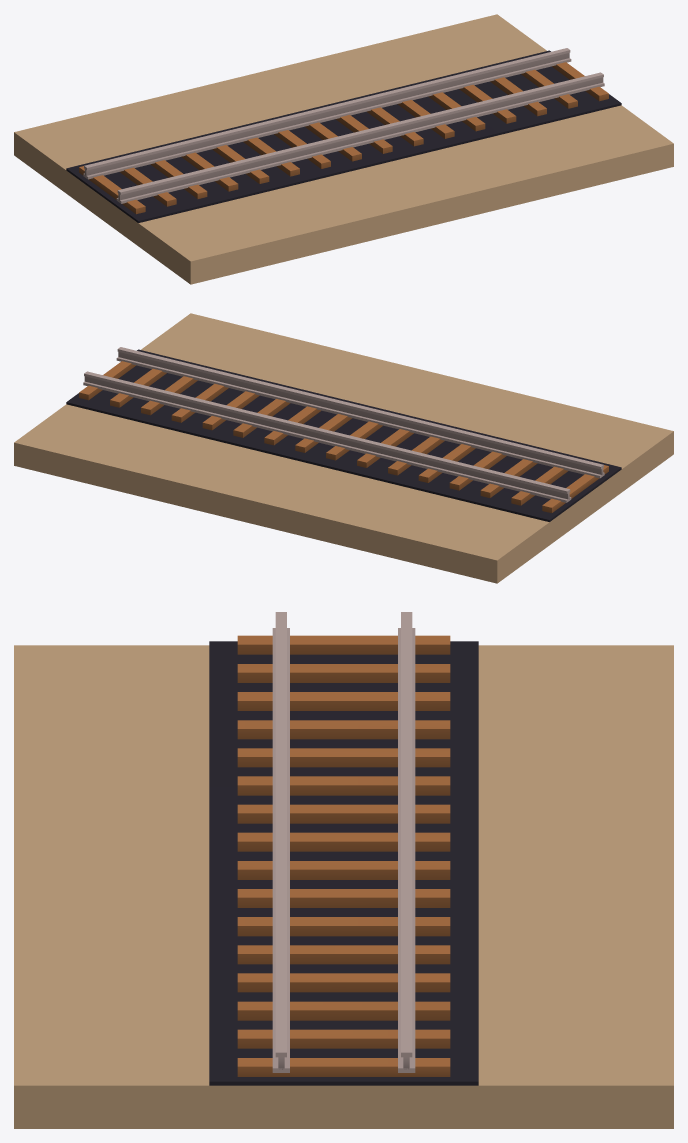
File: kit.metro-track.lod2.glb
3 views of the same model, one above another, from view 1: azimuth 30°, elevation 25°; view 2: azimuth 150°, elevation 25°; view 3: azimuth 270°, elevation 25° (orthographic). The views are drawn at different scales.
Visible parts, largest first — view 1: body; view 2: body; view 3: body.
Boxes of the visible parts, <box> form: body: <box>14,14,673,284</box>; body: <box>14,313,673,583</box>; body: <box>14,612,673,1128</box>.
Size of the model in its own units: 12 by 0.9701 by 7.6.
